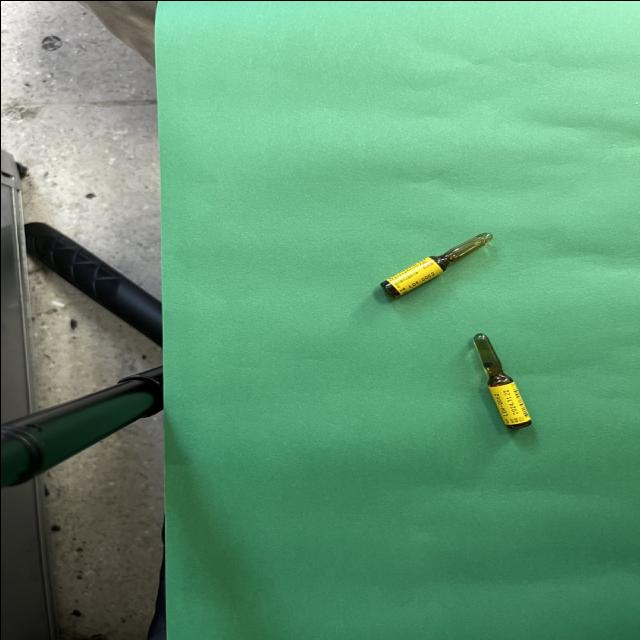Ampoules: (379, 232, 491, 297), (473, 332, 529, 428)
